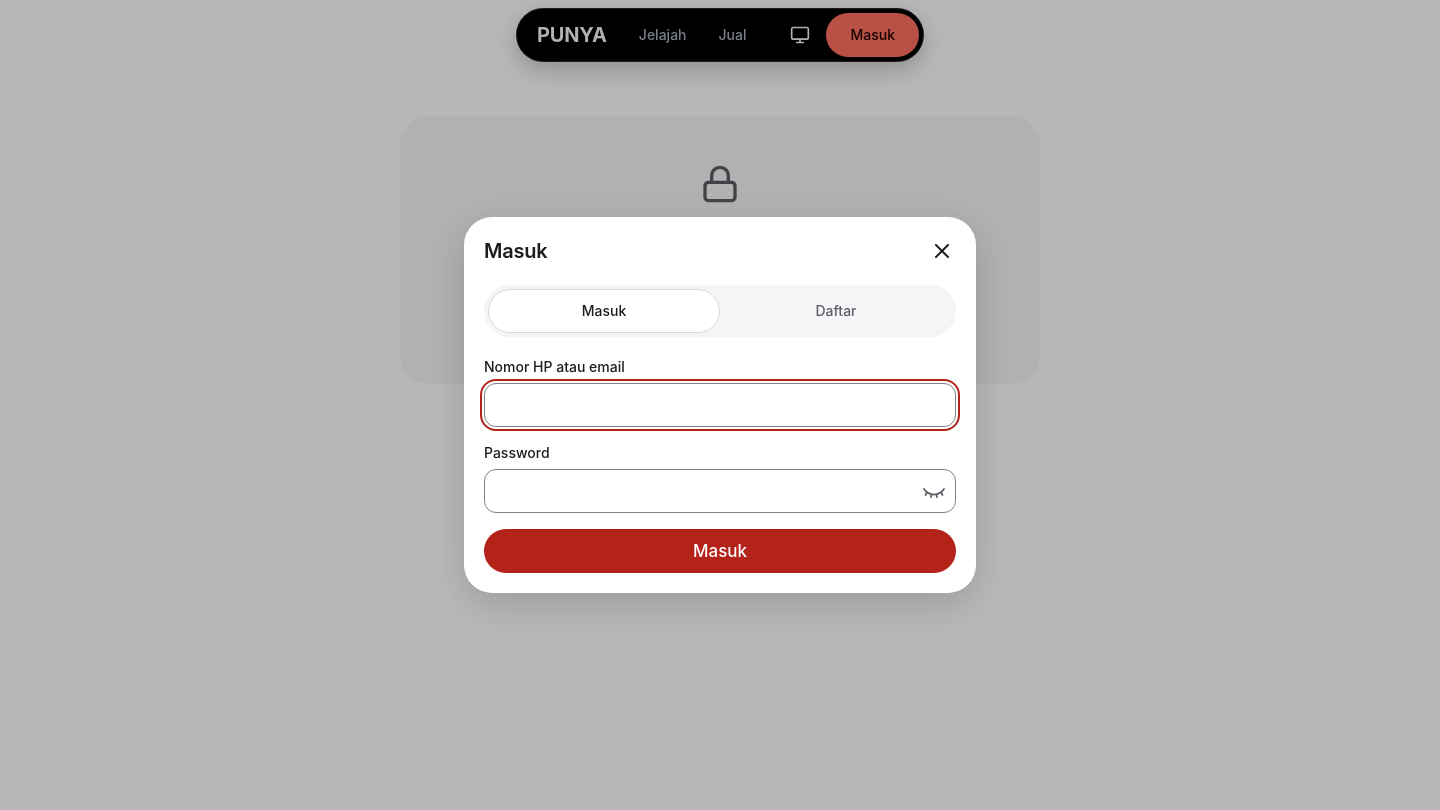
rute dan sesi › memulihkan tujuan setelah masuk
Expected: the dialog "Masuk" is shown, top-left (464, 217), bottom-right (976, 593)
Type "081234567890" into the field labelled "Nomor HP atau email". click: (720, 405)
box: top-left (484, 383), bottom-right (956, 427)
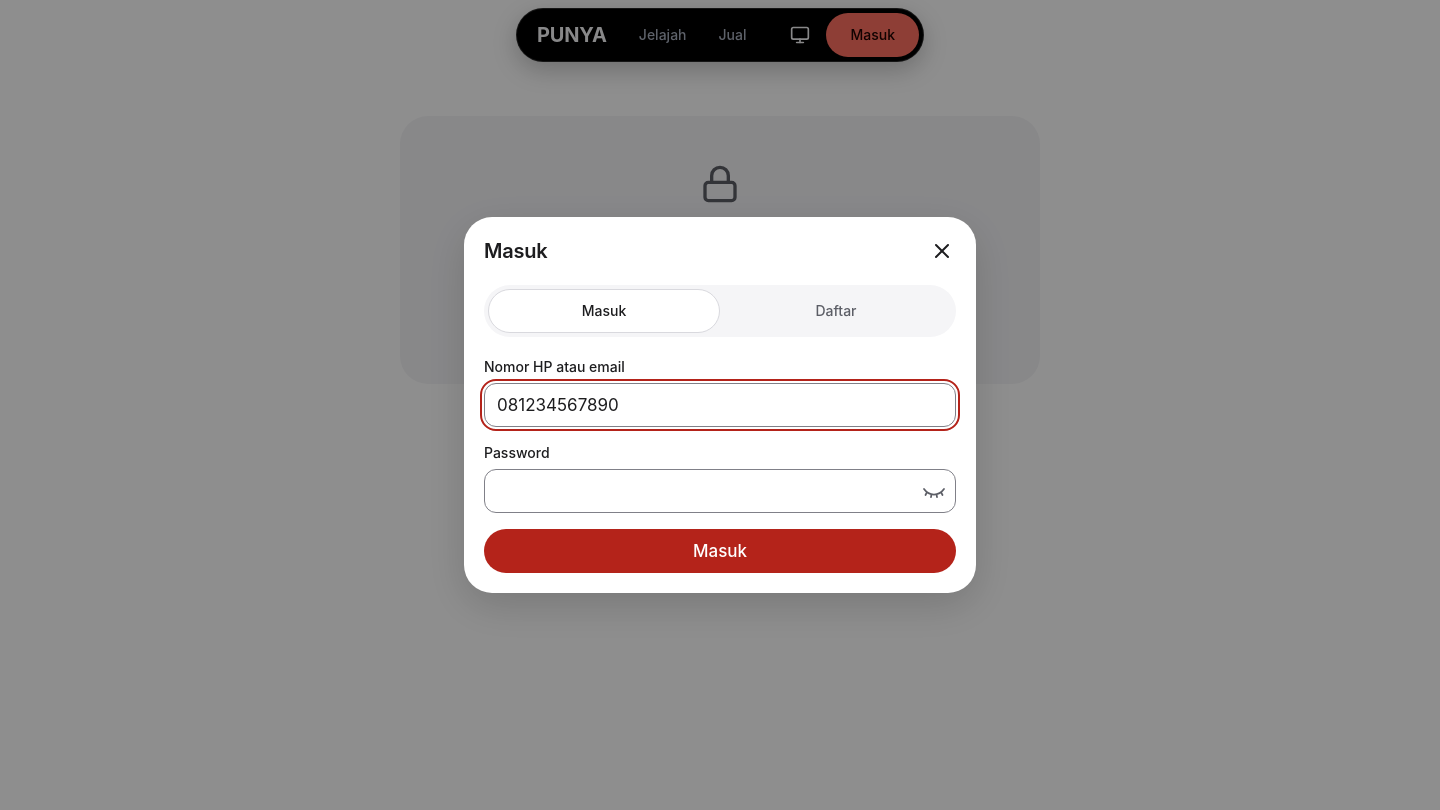
Type "rahasia123" into the password field labelled "Password". click: (720, 491)
box: top-left (484, 469), bottom-right (956, 513)
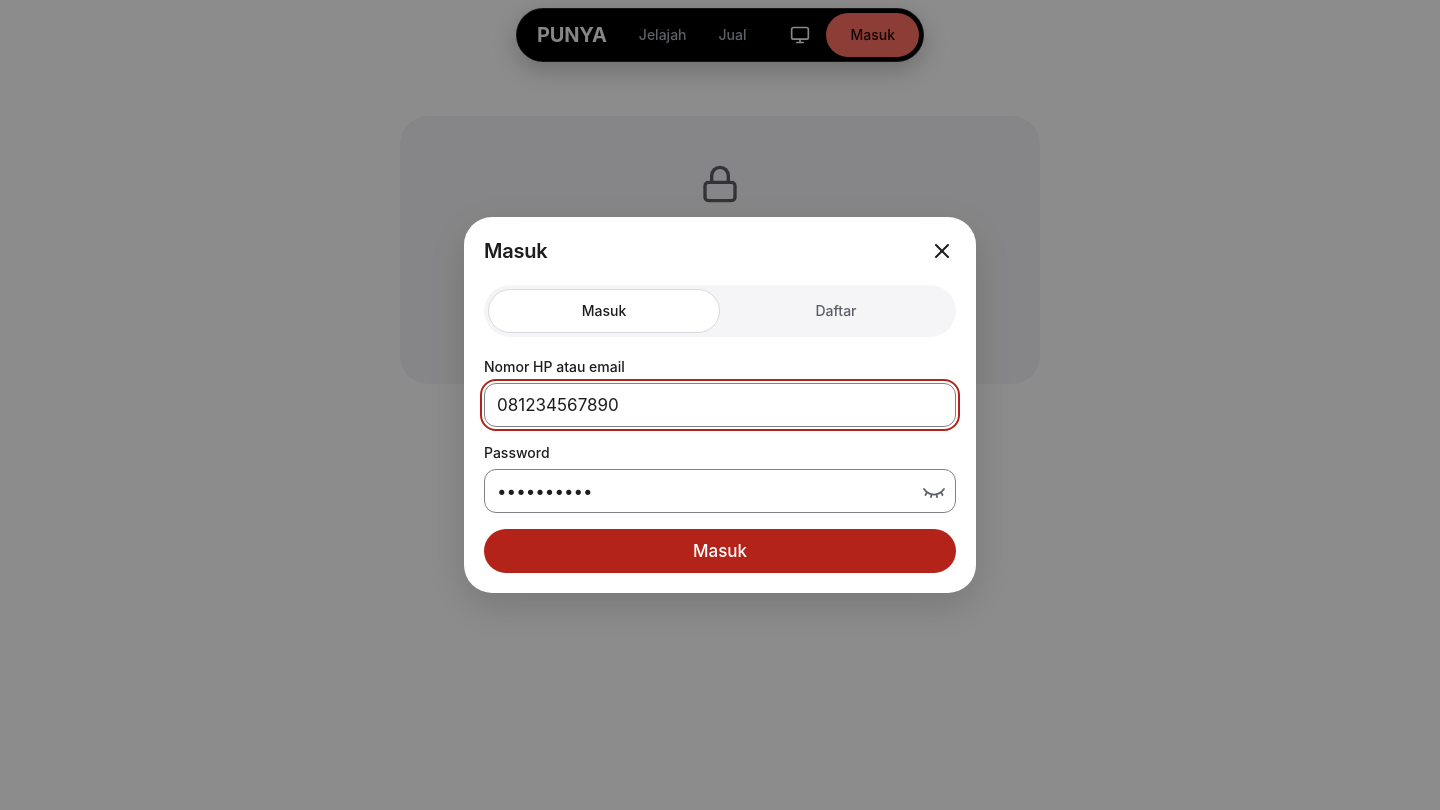
Submit the form labelled "Nomor HP atau email", box top-left (484, 357), bottom-right (956, 573)
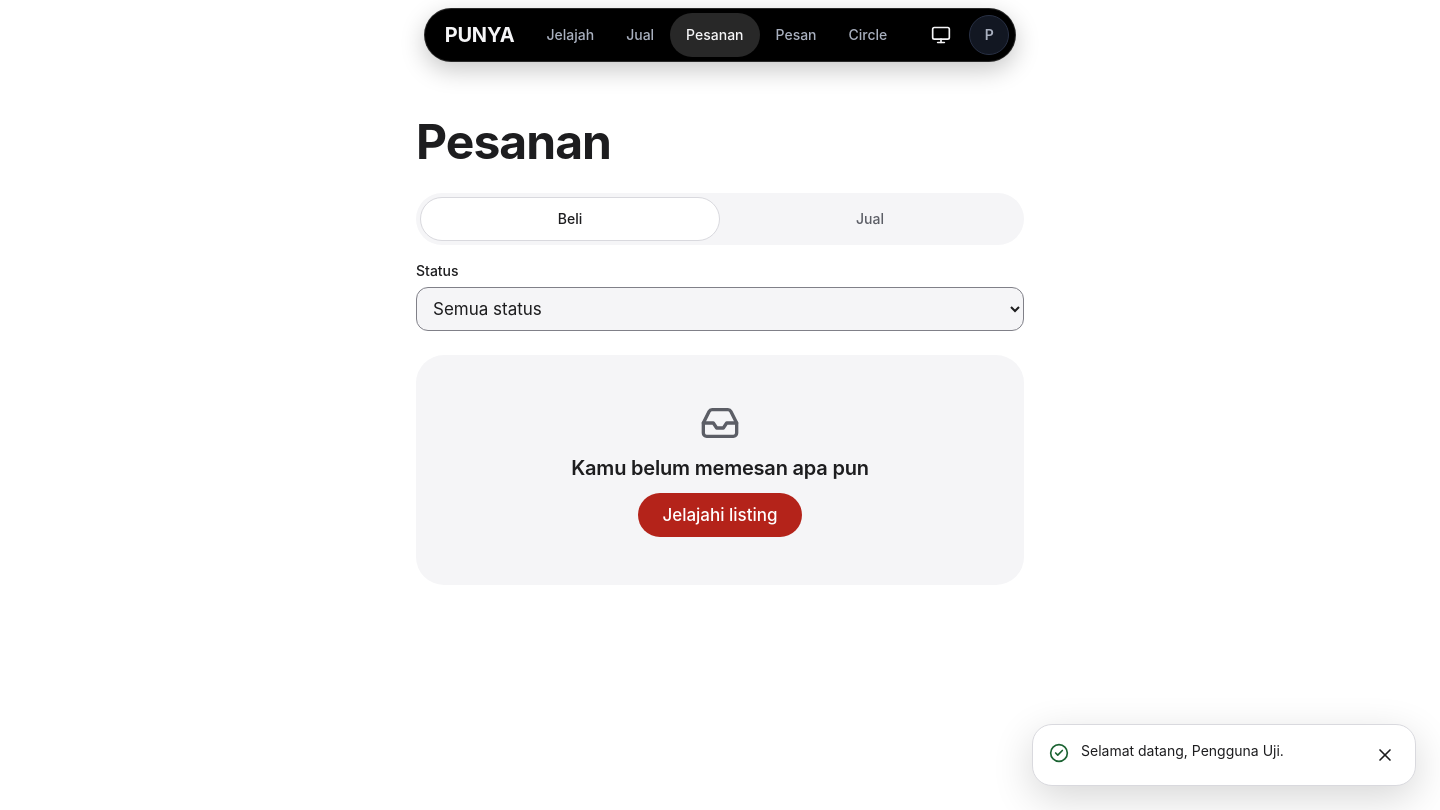
Result: the heading "Kamu belum memesan apa pun" is shown at top-left (571, 455), bottom-right (869, 481)
Result: the dialog is gone
